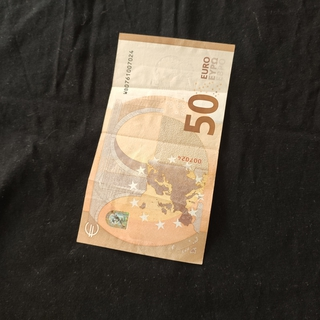50EUROBack: (75, 31, 236, 266)
